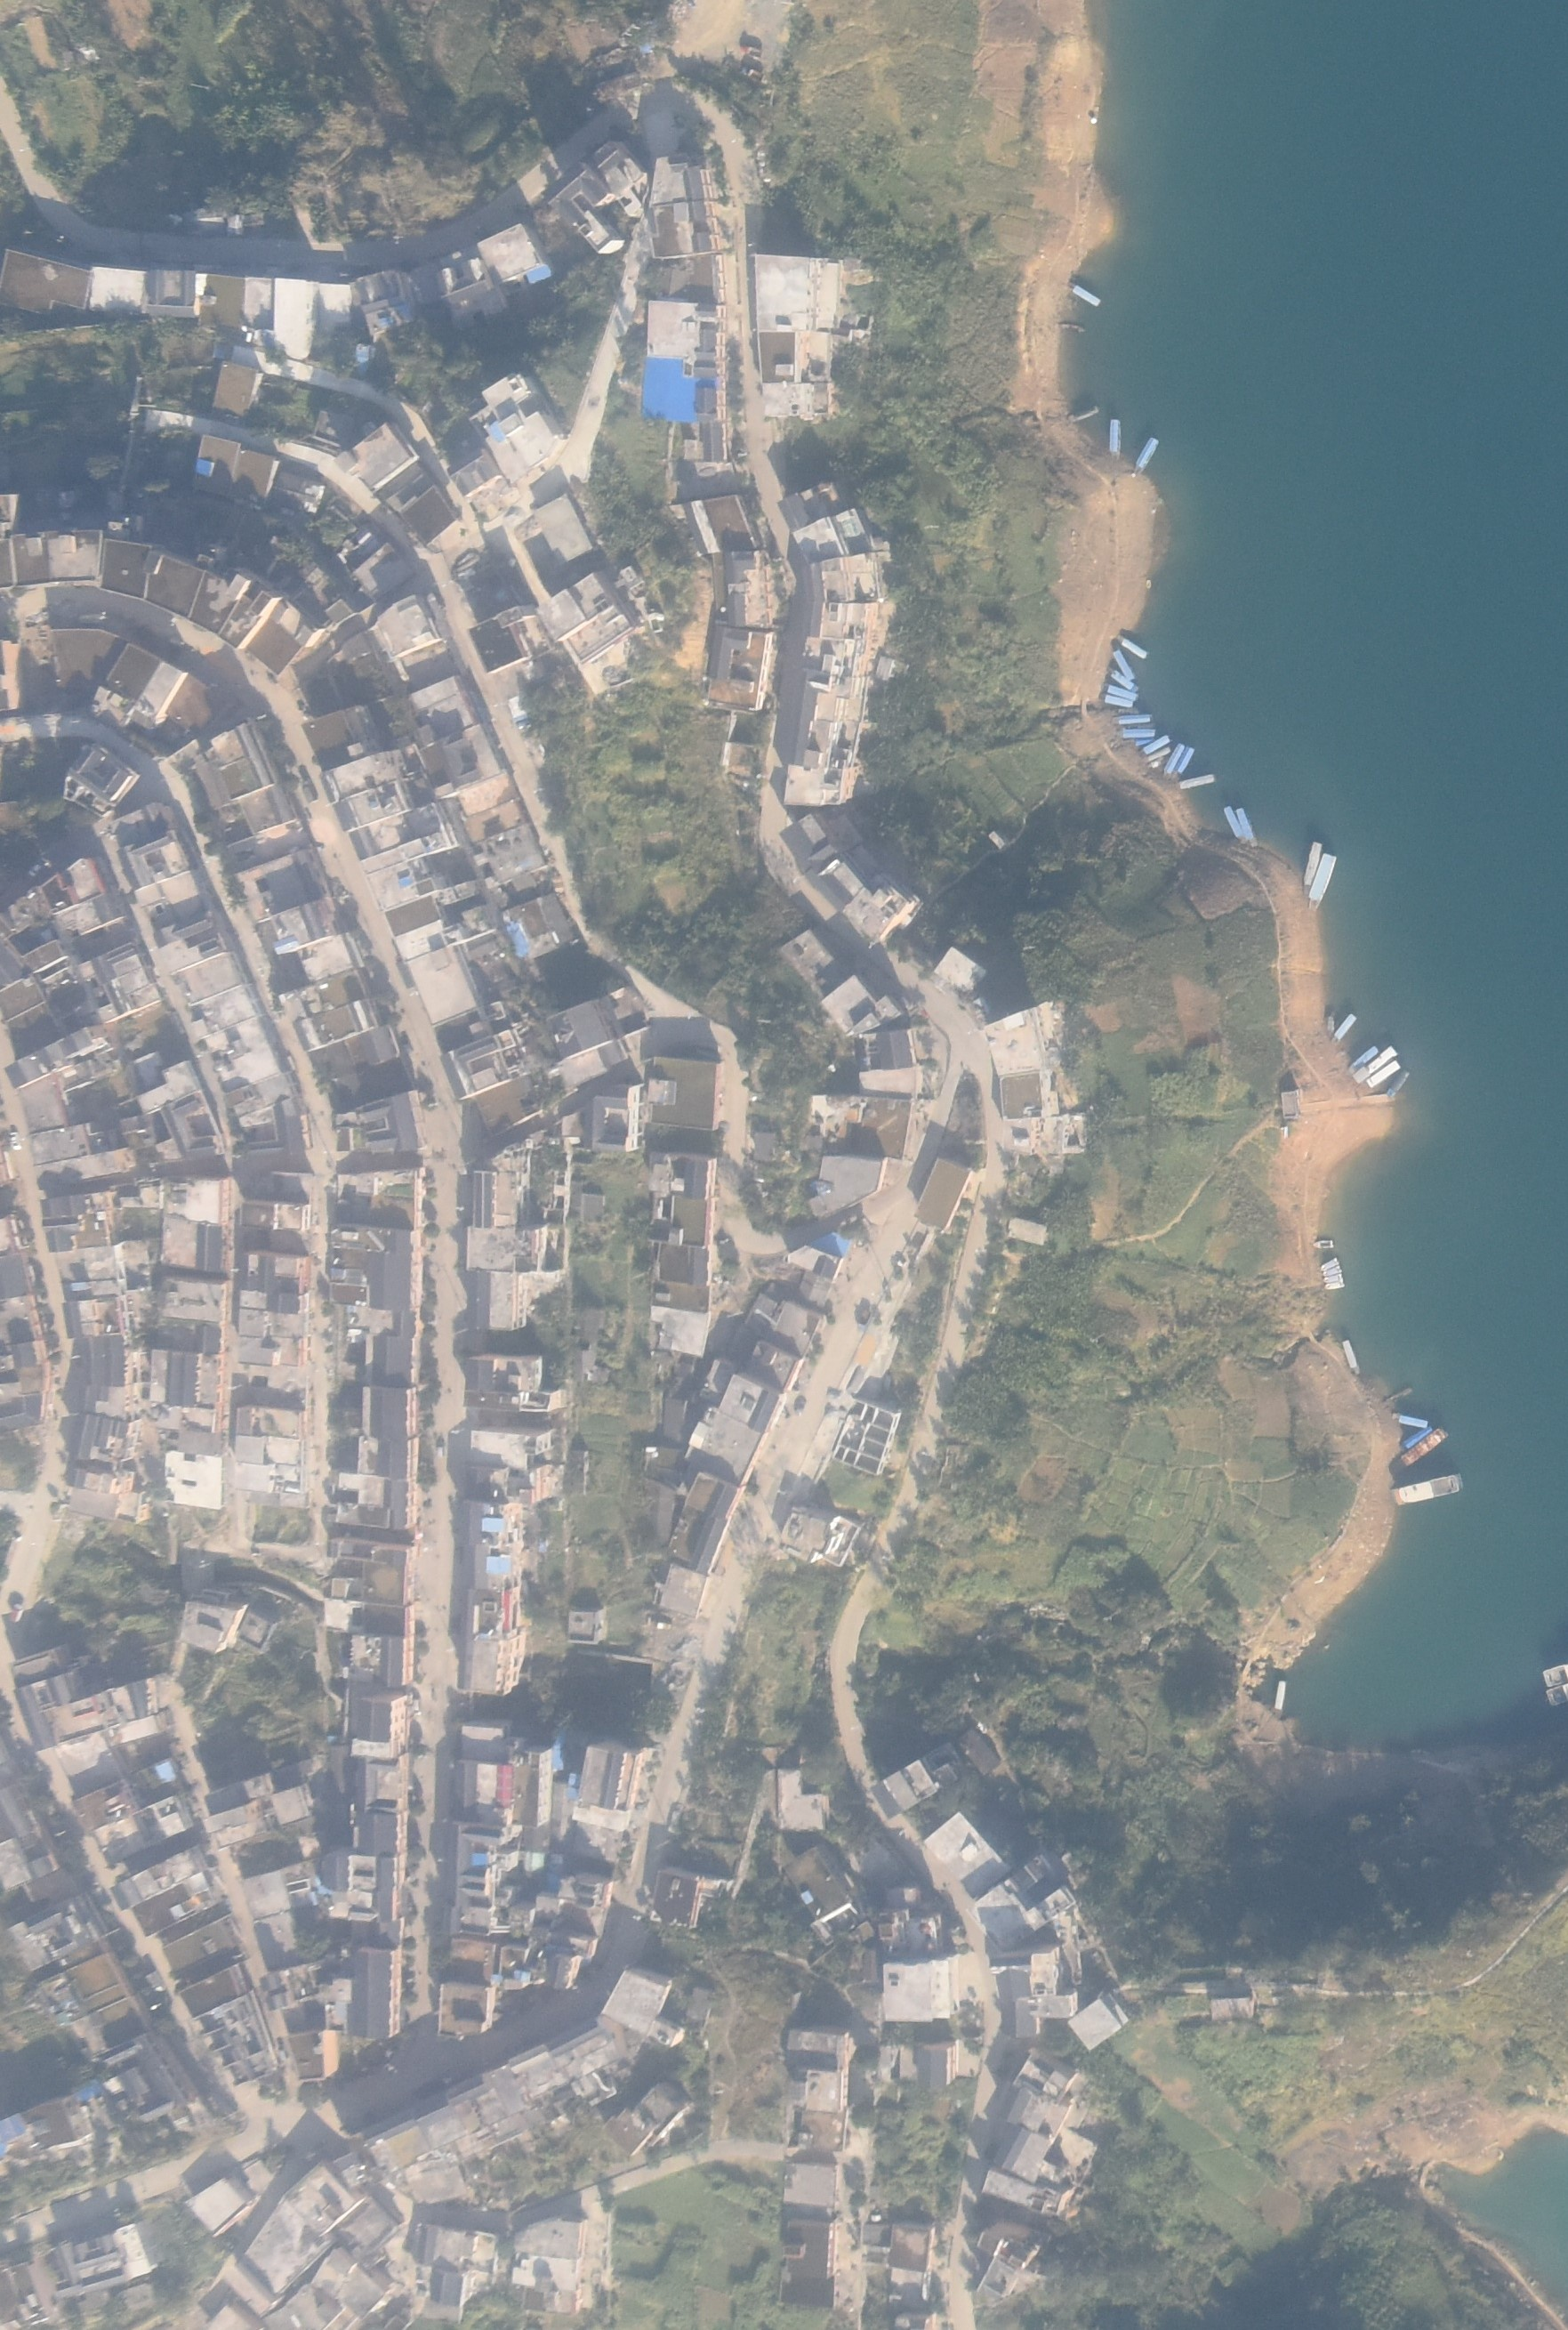building: (366, 1966, 682, 2202), (329, 747, 497, 1024), (110, 1845, 276, 2083), (402, 672, 553, 895), (89, 264, 355, 357), (171, 952, 292, 1155), (784, 639, 903, 804), (240, 2165, 364, 2314), (984, 1000, 1085, 1155), (168, 719, 292, 842), (457, 1497, 532, 1695), (779, 928, 901, 1036), (807, 1092, 912, 1218), (327, 1533, 413, 1686), (322, 597, 448, 700), (40, 1950, 149, 2062), (192, 432, 325, 523), (446, 1028, 557, 1134), (261, 2251, 409, 2330), (684, 1372, 784, 1488), (642, 296, 724, 432), (546, 142, 647, 252), (459, 1723, 565, 1826), (473, 1119, 576, 1224), (469, 369, 565, 481), (882, 1882, 957, 2024), (975, 1852, 1076, 1954), (549, 986, 646, 1092), (236, 847, 332, 952), (731, 1283, 824, 1392), (775, 2160, 842, 2311), (2, 494, 101, 593), (14, 1679, 159, 1747), (345, 1383, 413, 1526), (1001, 2087, 1099, 2185), (882, 1726, 1001, 1807), (754, 250, 865, 334), (438, 1940, 532, 2036), (539, 571, 632, 669), (54, 2223, 171, 2298), (534, 1873, 609, 1987), (91, 642, 191, 728), (784, 2031, 854, 2151), (96, 2031, 191, 2120), (238, 1250, 308, 1369), (137, 1059, 220, 1157), (451, 1833, 534, 1933), (235, 1402, 310, 1511), (2, 858, 105, 937), (100, 800, 186, 895), (416, 2221, 497, 2321), (464, 1428, 567, 1505), (828, 861, 924, 942), (280, 973, 376, 1054), (9, 1028, 121, 1096), (651, 156, 721, 261), (9, 1892, 101, 1971), (924, 1815, 1010, 1899), (780, 1845, 854, 1943), (509, 2220, 584, 2314), (158, 1173, 226, 1276), (186, 572, 273, 653), (670, 1472, 742, 1570), (602, 2080, 695, 2155), (352, 1807, 402, 1943), (331, 1225, 415, 1308), (79, 942, 161, 1026), (336, 418, 422, 499), (58, 739, 142, 818), (647, 1150, 716, 1246), (129, 825, 198, 921), (591, 1077, 677, 1152), (866, 2221, 938, 2311), (464, 1351, 565, 1414), (242, 595, 317, 679), (572, 1744, 646, 1829), (2, 247, 89, 319), (756, 333, 828, 420), (30, 1122, 135, 1182), (1001, 1950, 1071, 2038), (340, 1087, 427, 1155), (707, 623, 773, 712), (336, 1162, 423, 1229), (471, 604, 551, 674), (152, 1325, 222, 1406), (833, 1392, 900, 1476), (718, 546, 784, 627), (480, 1273, 569, 1332), (350, 1947, 406, 2039), (436, 259, 508, 331), (793, 509, 891, 562), (651, 1059, 724, 1129), (1053, 1908, 1118, 1987), (303, 702, 381, 767), (670, 495, 753, 557), (780, 1504, 857, 1569), (467, 1225, 569, 1274), (982, 2169, 1074, 2221), (182, 1598, 275, 1651), (854, 1028, 922, 1096), (506, 895, 574, 961), (350, 268, 418, 334), (178, 2176, 252, 2237), (63, 1470, 150, 1521), (478, 222, 549, 284), (2, 2263, 65, 2330), (350, 1691, 411, 1759), (914, 1155, 970, 1229), (653, 1241, 712, 1309), (975, 2235, 1040, 2297), (98, 541, 164, 600), (1010, 2052, 1083, 2104), (164, 1446, 226, 1509), (77, 1336, 126, 1414), (1069, 1989, 1129, 2053), (53, 888, 128, 938), (245, 1861, 315, 1915), (535, 497, 593, 562), (42, 1190, 108, 1245), (612, 569, 665, 637), (653, 1558, 709, 1621), (630, 1467, 674, 1547), (28, 2097, 93, 2151), (331, 1470, 390, 1528), (147, 557, 203, 618), (567, 1306, 609, 1386), (816, 555, 886, 602), (777, 1766, 829, 1829), (787, 1229, 852, 1280), (205, 1798, 269, 1849), (649, 1306, 714, 1357), (724, 711, 773, 777), (402, 485, 457, 544), (285, 2027, 345, 2081), (210, 361, 262, 422), (75, 1414, 142, 1462), (780, 481, 849, 527), (70, 1782, 138, 1828), (374, 1309, 415, 1385), (137, 1794, 196, 1845), (2, 1838, 61, 1889), (317, 1843, 359, 1913), (268, 1957, 325, 2008), (352, 541, 411, 590), (651, 1870, 698, 1931), (935, 945, 991, 996), (299, 931, 357, 980), (789, 1253, 836, 1311), (254, 1910, 298, 1971), (23, 940, 72, 994), (807, 600, 875, 639), (2, 1782, 38, 1852), (159, 1281, 222, 1322), (93, 1817, 147, 1863), (1204, 1978, 1260, 2022), (72, 1246, 119, 1297), (353, 1761, 399, 1814), (19, 1082, 68, 1129), (453, 455, 504, 501), (350, 1026, 401, 1070), (240, 1199, 313, 1229), (2, 637, 30, 712), (2, 977, 44, 1024), (273, 1780, 313, 1828), (2, 1385, 44, 1428), (686, 418, 724, 466), (914, 2046, 955, 2088), (68, 1302, 121, 1336), (131, 1758, 180, 1793), (644, 1446, 684, 1486), (313, 411, 359, 446), (565, 1607, 606, 1646), (336, 530, 380, 564), (240, 2160, 275, 2200), (1004, 1213, 1046, 1246), (2, 2115, 26, 2171), (828, 818, 865, 854), (851, 844, 882, 886), (173, 919, 220, 947), (2, 1257, 30, 1301), (796, 811, 826, 851), (661, 1397, 688, 1442), (137, 1052, 168, 1087), (245, 1770, 275, 1801), (807, 844, 838, 872), (753, 1131, 777, 1164), (194, 208, 228, 233), (12, 1341, 42, 1367), (581, 1196, 604, 1225), (1279, 1087, 1298, 1119), (987, 830, 1006, 849), (164, 212, 184, 231), (229, 210, 243, 235), (245, 212, 262, 231), (9, 1607, 24, 1625)
prefabricated-house: (352, 343, 374, 382)
ship: (1388, 1472, 1463, 1507), (1396, 1428, 1444, 1470), (1307, 853, 1337, 912), (1353, 1045, 1396, 1082), (1302, 840, 1323, 895), (1069, 278, 1101, 310), (1347, 1043, 1379, 1073), (1132, 439, 1158, 474), (1368, 1059, 1400, 1087), (1237, 805, 1258, 847), (1221, 805, 1244, 842), (1332, 1014, 1358, 1045), (1388, 1068, 1409, 1101), (1543, 1661, 1568, 1689), (1402, 1427, 1433, 1448), (1342, 1341, 1360, 1378), (1166, 740, 1183, 777), (1545, 1681, 1568, 1709), (1113, 651, 1136, 679), (1111, 670, 1141, 691), (1062, 404, 1097, 422), (1106, 683, 1138, 702), (1176, 744, 1195, 775), (1381, 1386, 1414, 1404), (1139, 735, 1172, 753), (1272, 1675, 1286, 1716), (1109, 418, 1123, 459), (1395, 1413, 1428, 1428), (1179, 774, 1215, 788), (1120, 641, 1146, 658), (1059, 319, 1085, 336), (1111, 714, 1157, 723), (1104, 695, 1132, 709), (1144, 747, 1172, 761), (1122, 728, 1155, 739), (1319, 1257, 1337, 1273), (1314, 1239, 1334, 1250), (1323, 1267, 1342, 1278), (1321, 1274, 1342, 1283), (1144, 760, 1164, 768), (1325, 1281, 1346, 1288), (1328, 1010, 1334, 1036), (1134, 739, 1151, 744)
vehicle: (509, 693, 534, 733), (294, 765, 320, 802), (742, 65, 767, 84), (740, 42, 767, 60), (7, 1129, 21, 1152), (436, 1434, 445, 1460)
